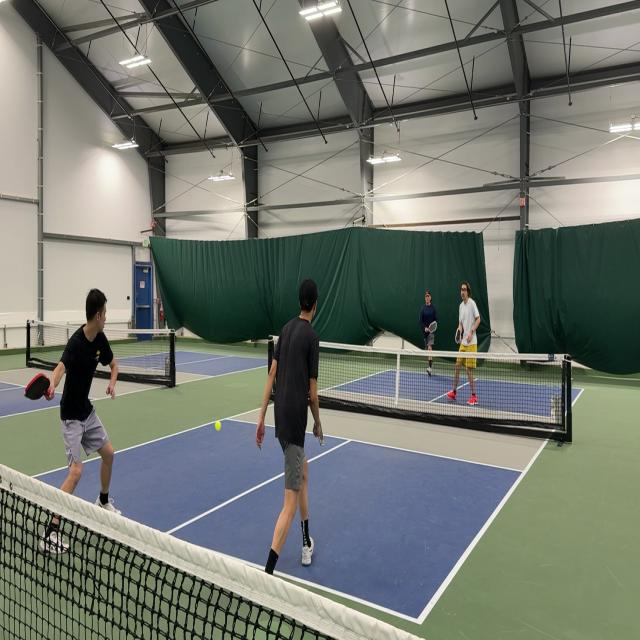ball: (214, 419, 222, 432)
